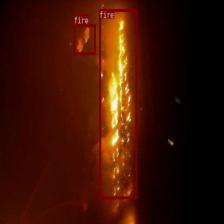fire: (99, 9, 137, 198), (74, 23, 96, 54)
